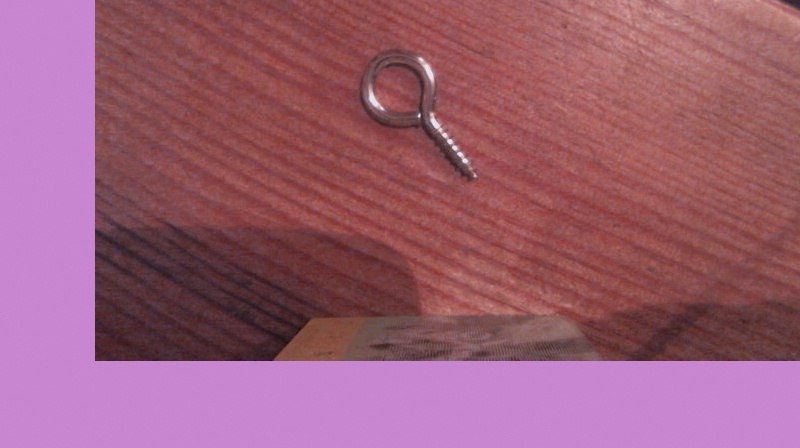O001: (357, 46, 478, 182)
